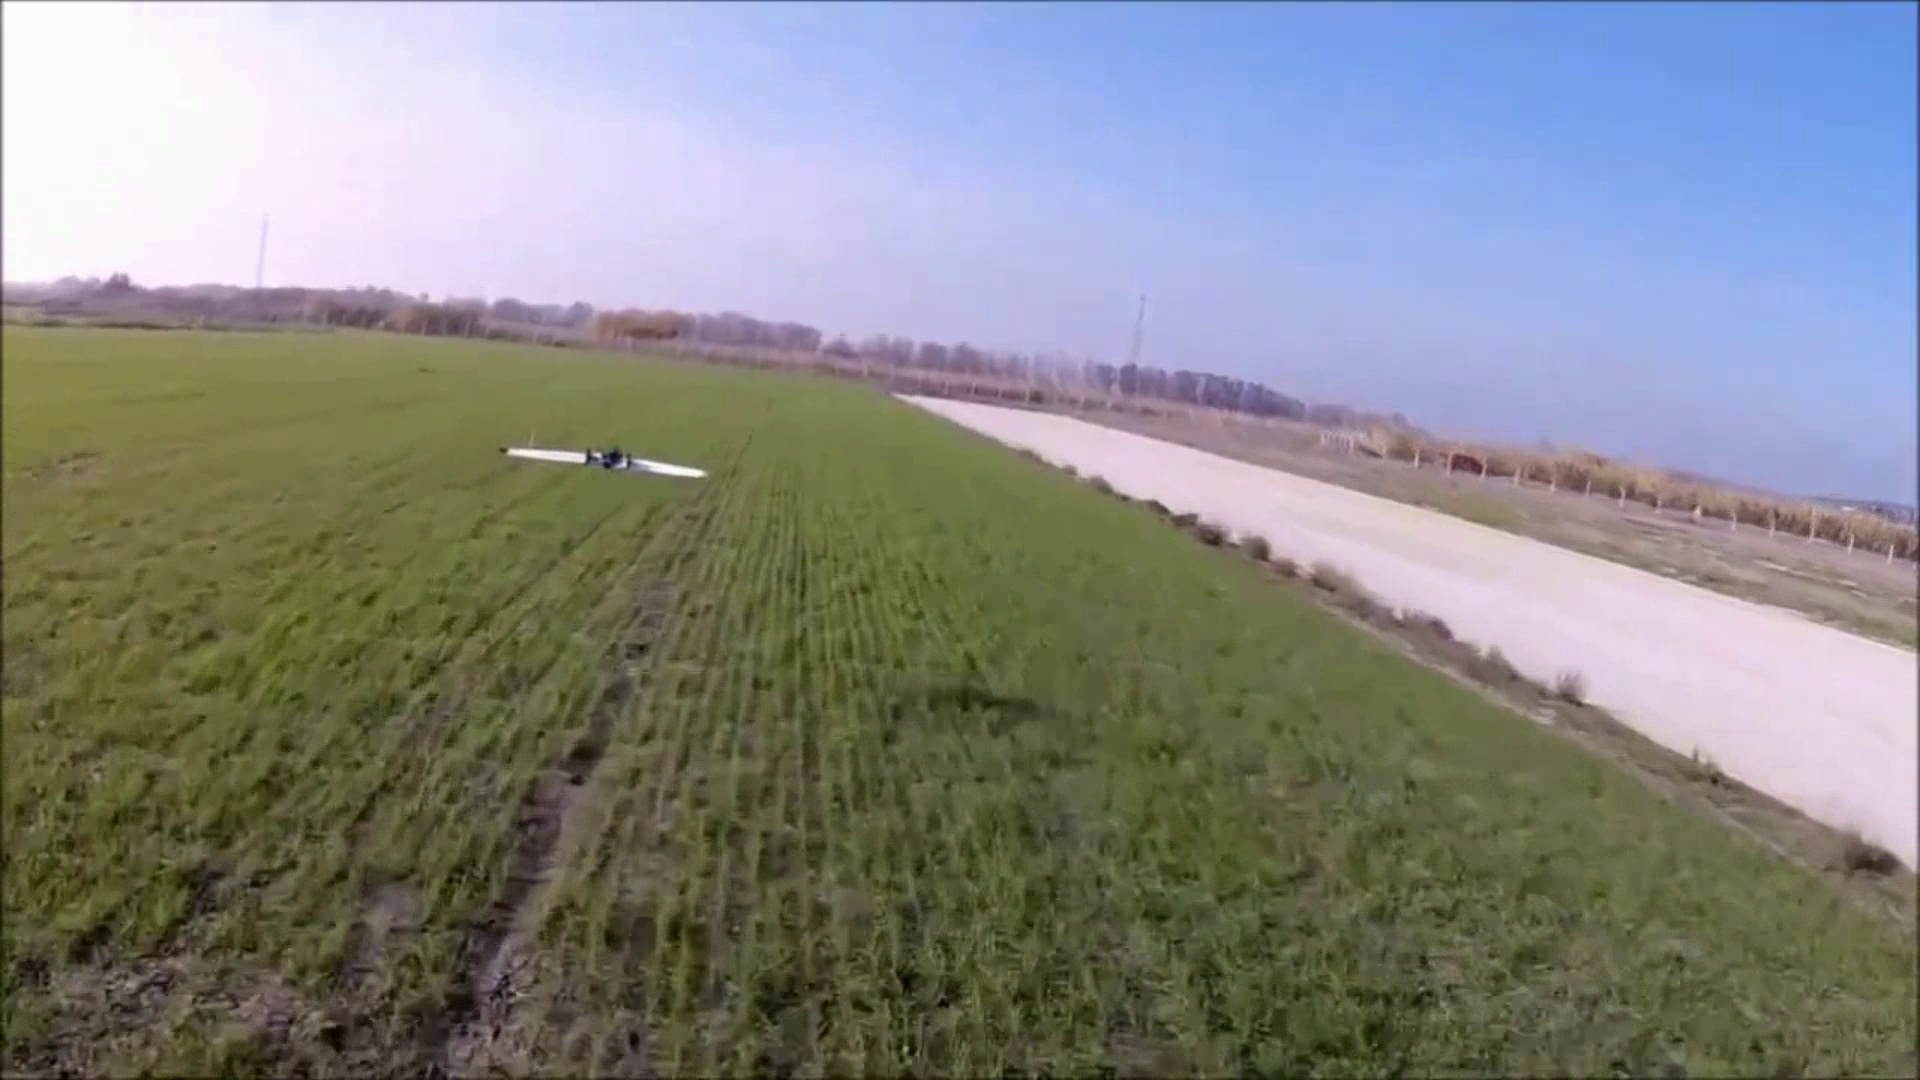airplane: (501, 439, 709, 481)
